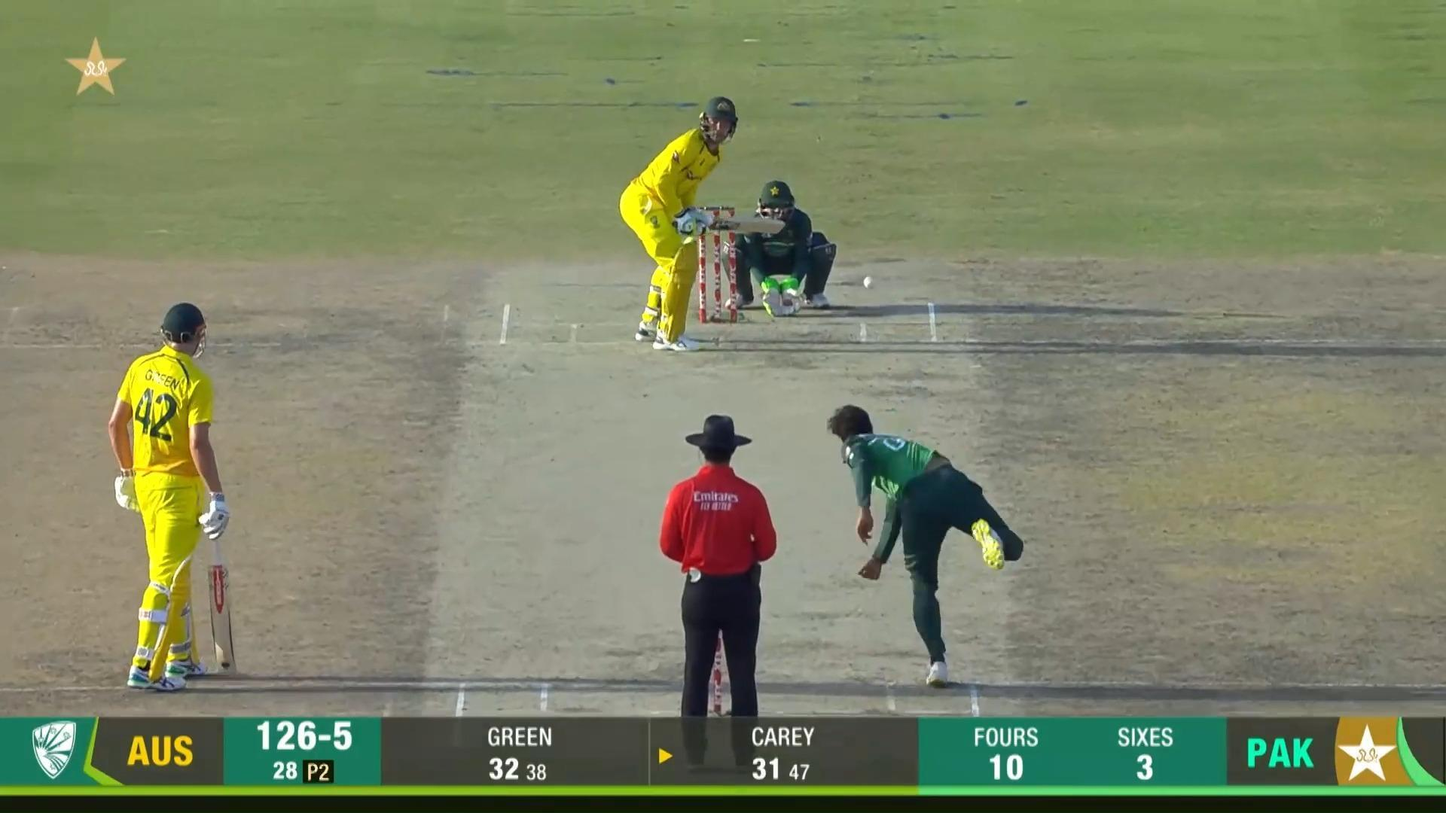BM 1: (619, 94, 788, 354)
BO: (826, 403, 1024, 686)
